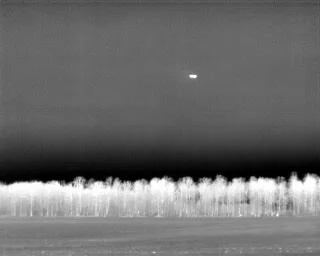DRONE: (186, 70, 201, 83)
